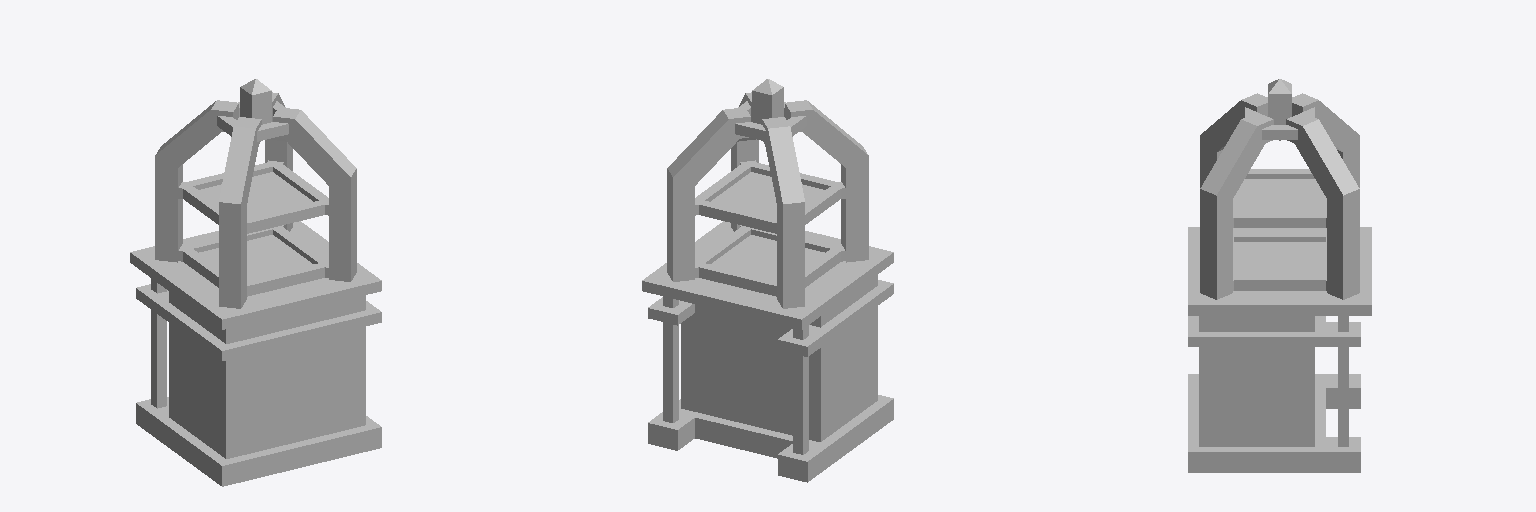
The model's file is station_disenchanter_inventory.obj.
3 renders of one model, left to right at view 1: azimuth 30°, elevation 25°; view 2: azimuth 150°, elevation 25°; view 3: azimuth 270°, elevation 25°, orthographic.
Parts seen in each view (by area): view 1: DESK_SINGLE_MAIN.006, DISENCHANTER_MAIN_Cube.003, DISENCHANTER_CRYSTAL_Cube.010; view 2: DESK_SINGLE_MAIN.006, DISENCHANTER_MAIN_Cube.003, DISENCHANTER_CRYSTAL_Cube.010; view 3: DESK_SINGLE_MAIN.006, DISENCHANTER_MAIN_Cube.003, DISENCHANTER_CRYSTAL_Cube.010.
Part boxes in pixels (x1,y1,x2,y2): DESK_SINGLE_MAIN.006: (130,221,381,486); DISENCHANTER_MAIN_Cube.003: (155,92,356,308); DISENCHANTER_CRYSTAL_Cube.010: (240,79,271,124); DESK_SINGLE_MAIN.006: (642,221,893,482); DISENCHANTER_MAIN_Cube.003: (667,92,868,308); DISENCHANTER_CRYSTAL_Cube.010: (752,79,783,124); DESK_SINGLE_MAIN.006: (1188,227,1371,472); DISENCHANTER_MAIN_Cube.003: (1200,93,1359,299); DISENCHANTER_CRYSTAL_Cube.010: (1268,79,1291,140).
Bounding box in the file's own units: 1 × 2.12 × 1.